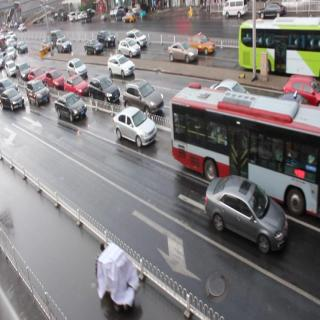BigCar: (166, 66, 319, 200), (240, 14, 320, 78)
Car: (194, 167, 284, 256), (115, 109, 154, 157), (127, 65, 162, 110), (86, 70, 118, 103), (57, 88, 85, 121)
